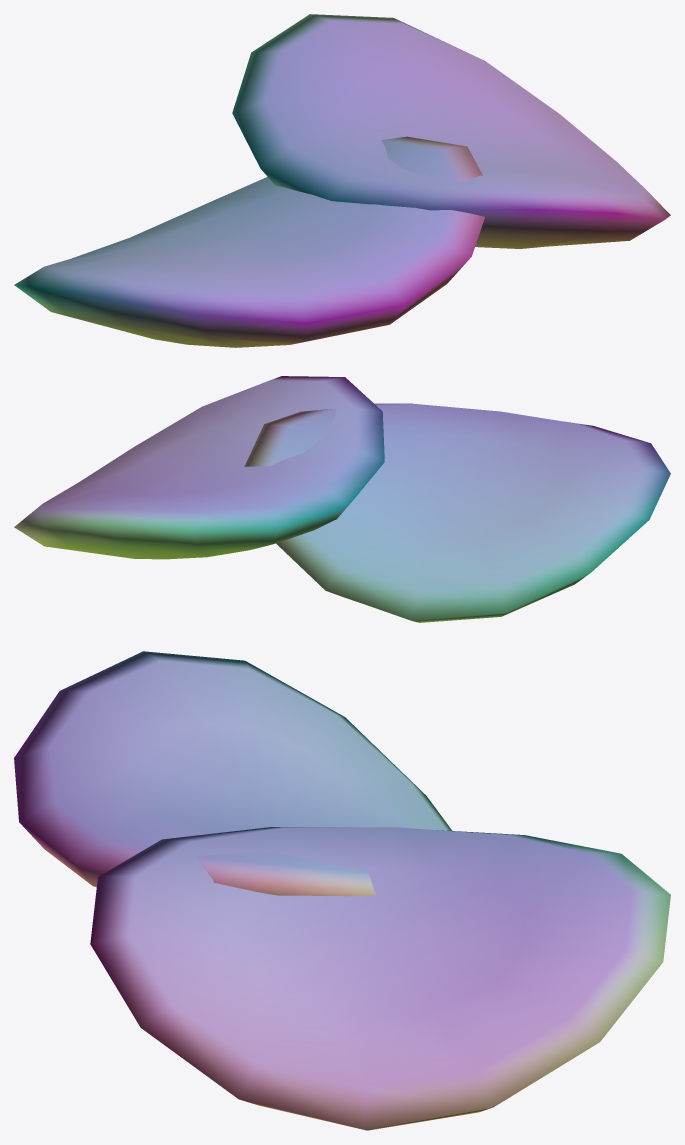
The model's file is env_deco_chip.glb.
3 renders of one model, top to bottom at view 1: azimuth 30°, elevation 25°; view 2: azimuth 150°, elevation 25°; view 3: azimuth 270°, elevation 25°, orthographic. The views are drawn at different scales.
Visible parts, largest first — view 1: env_deco_chip_mesh; view 2: env_deco_chip_mesh; view 3: env_deco_chip_mesh.
Part boxes in pixels (box(x1,y1,x2,y2)): env_deco_chip_mesh: box(14, 14, 670, 347); env_deco_chip_mesh: box(14, 376, 670, 622); env_deco_chip_mesh: box(14, 651, 670, 1130).
Bounding box in the file's own units: 0.3174 × 0.0631 × 0.2453.
